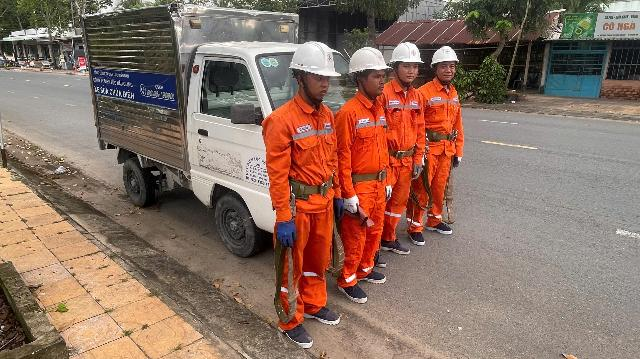gloves: (272, 213, 305, 252), (338, 188, 361, 217), (327, 193, 346, 221), (408, 159, 425, 180), (449, 151, 466, 171), (381, 184, 393, 205)
harness: (267, 172, 347, 199), (416, 121, 466, 146), (350, 167, 394, 191), (384, 141, 421, 162)
helmet: (292, 39, 345, 81), (346, 41, 391, 75), (386, 37, 426, 66), (424, 43, 463, 66)
shoes: (272, 312, 320, 356), (299, 295, 340, 332), (332, 271, 368, 308), (380, 233, 412, 260), (400, 219, 426, 252), (425, 211, 454, 239), (355, 265, 385, 289), (366, 243, 387, 271)
